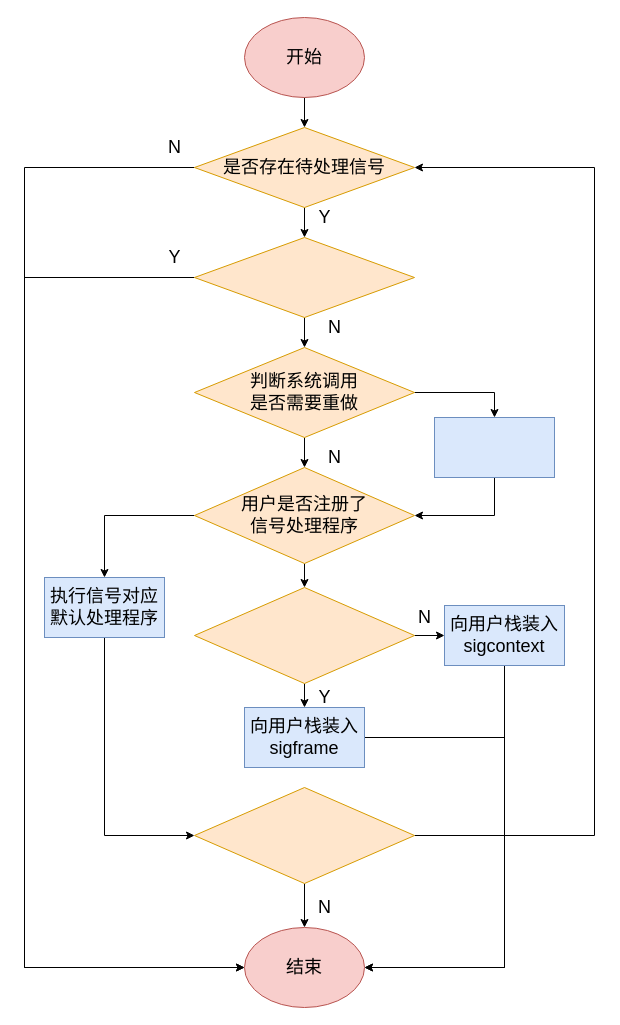
Image size: 620x1025. Some labels were removed from this diagram. The shapes that lost their labels are listed below. From the top down, each one's centre as x and y in pixels, then its label:
At point 304,277: "信号是否被掩掉".
At point 494,447: "重置a0与sepc".
At point 304,635: "是否存在siginfo标志".
At point 304,835: "是否存在未被处理信号".
